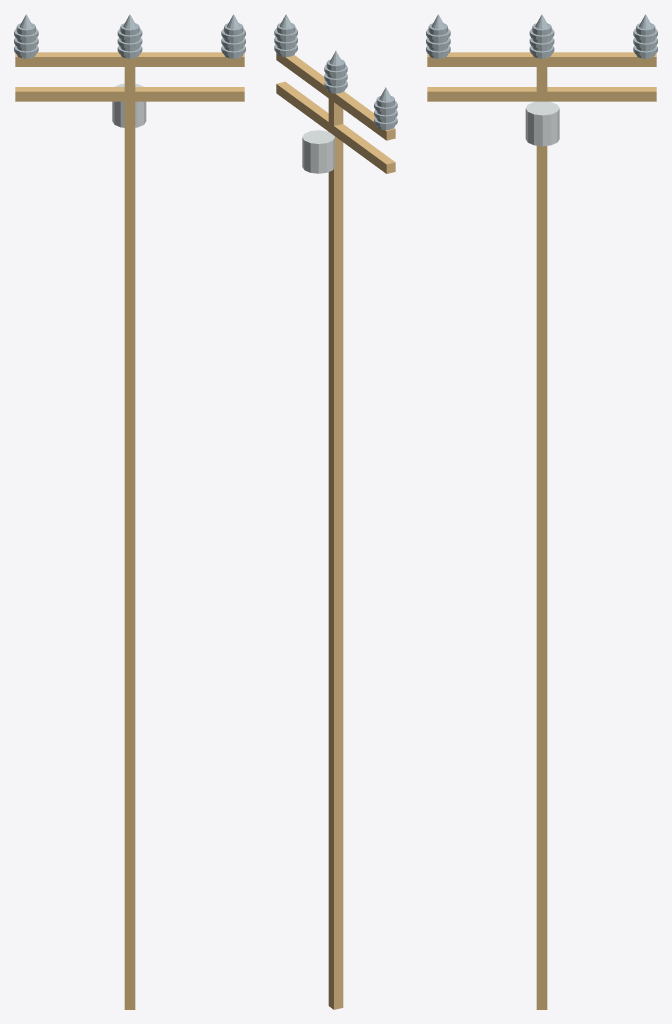
File: Power Lines by Chase W. - dk0tA6iZdjU.glb
3 renders of one model, left to right at view 1: azimuth 90°, elevation 25°; view 2: azimuth 210°, elevation 25°; view 3: azimuth 270°, elevation 25°, orthographic. The views are drawn at different scales.
Visible parts, largest first — view 1: group923956458, group440172050, group715347984, group1657869, group556216434, group919581240, group136040205; view 2: group923956458, group440172050, group715347984, group136040205, group1657869, group556216434, group919581240; view 3: group923956458, group440172050, group715347984, group136040205, group1657869, group556216434, group919581240.
Part boxes in pixels (left/top/right/bottom): group923956458: left=124, top=58, right=135, bottom=1009; group440172050: left=15, top=87, right=244, bottom=101; group715347984: left=15, top=52, right=244, bottom=66; group1657869: left=117, top=14, right=142, bottom=58; group556216434: left=14, top=14, right=38, bottom=58; group919581240: left=221, top=14, right=245, bottom=58; group136040205: left=112, top=83, right=146, bottom=127; group923956458: left=328, top=92, right=343, bottom=1009; group440172050: left=276, top=81, right=395, bottom=173; group715347984: left=276, top=52, right=395, bottom=140; group136040205: left=302, top=130, right=334, bottom=173; group1657869: left=324, top=51, right=347, bottom=93; group556216434: left=374, top=87, right=397, bottom=129; group919581240: left=274, top=14, right=297, bottom=56; group923956458: left=536, top=58, right=547, bottom=1009; group440172050: left=427, top=87, right=656, bottom=101; group715347984: left=427, top=52, right=656, bottom=66; group136040205: left=525, top=101, right=559, bottom=146; group1657869: left=529, top=14, right=554, bottom=58; group556216434: left=633, top=14, right=657, bottom=58; group919581240: left=426, top=14, right=450, bottom=58.
Bounding box in the file's own units: 0.37 × 8.04 × 1.7.
